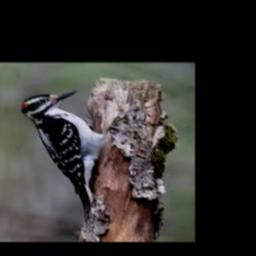Woodpecker: (21, 90, 106, 216)
